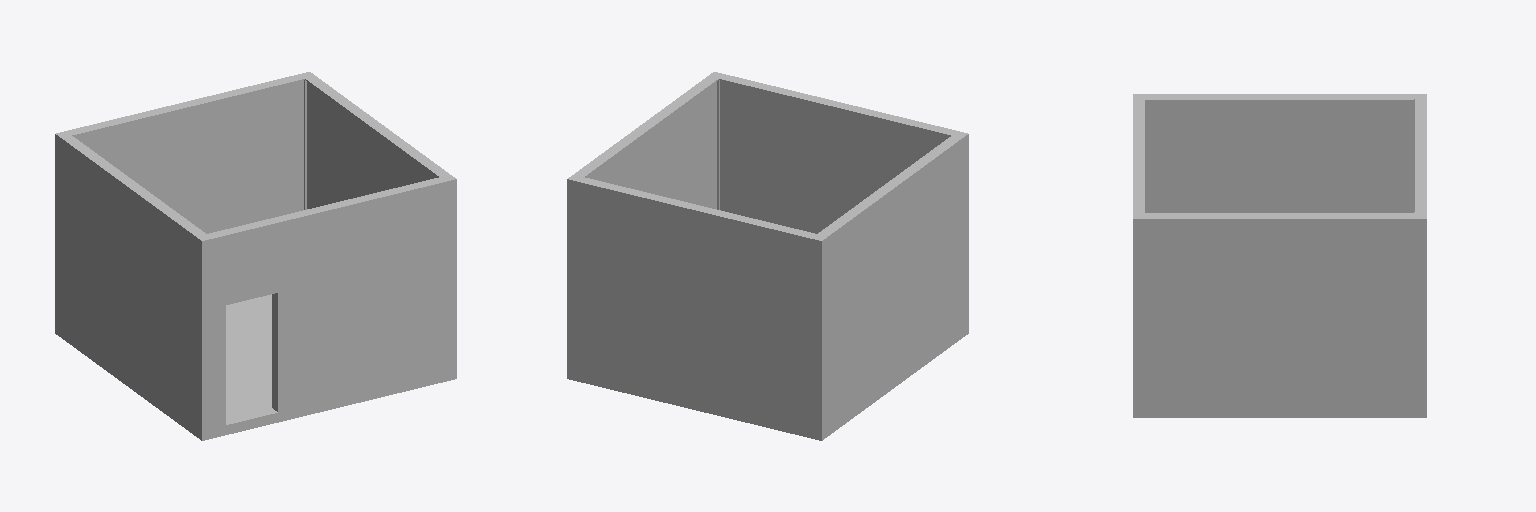
The model's file is room.obj.
3 views of the same model, side by side, from view 1: azimuth 30°, elevation 25°; view 2: azimuth 150°, elevation 25°; view 3: azimuth 270°, elevation 25° (orthographic).
Parts seen in each view (by area): view 1: walls, floor, trim; view 2: walls, floor, trim; view 3: walls, floor, trim.
Boxes of the visible parts, x1,y1,x2,y2 form: walls: [55, 72, 456, 430]; floor: [55, 294, 456, 440]; trim: [70, 78, 441, 407]; walls: [567, 72, 968, 430]; floor: [567, 324, 968, 440]; trim: [582, 78, 953, 234]; walls: [1133, 94, 1426, 407]; floor: [1133, 408, 1426, 417]; trim: [1144, 99, 1415, 213].
Bounding box in the file's own units: 4000 × 3010 × 4000.